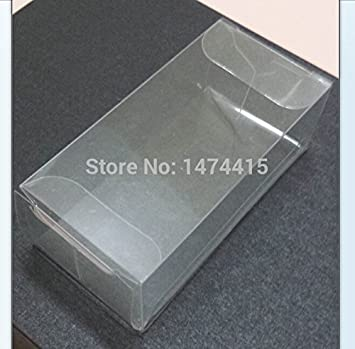PlasticBox: (13, 15, 334, 334)
